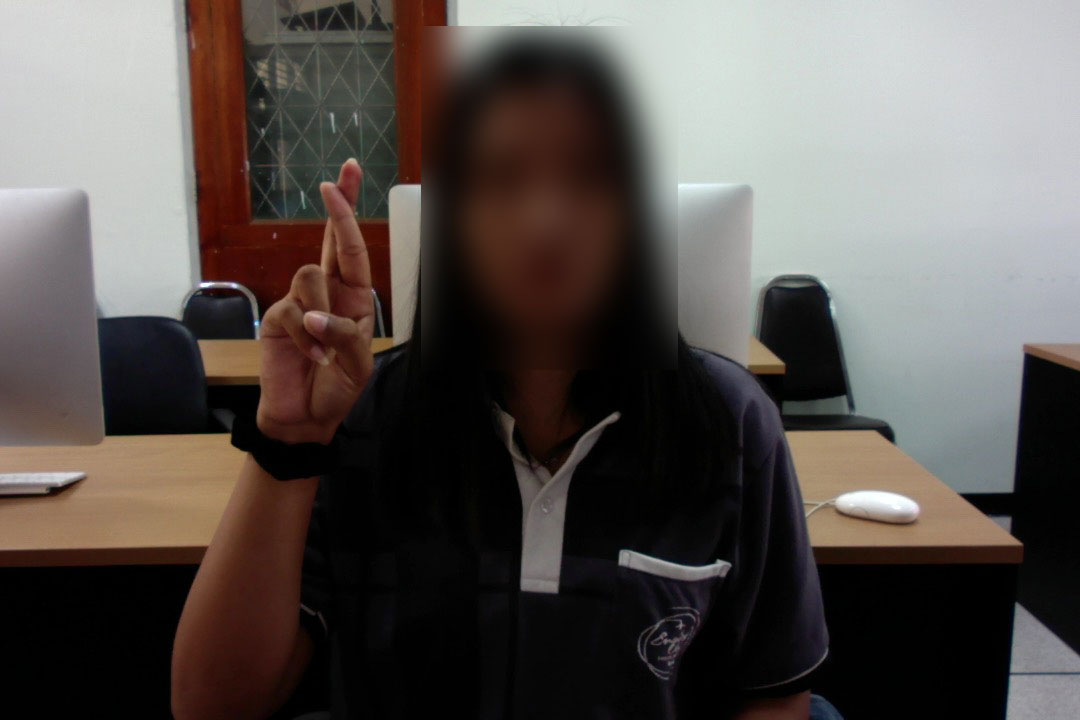rao: (258, 154, 385, 434)
